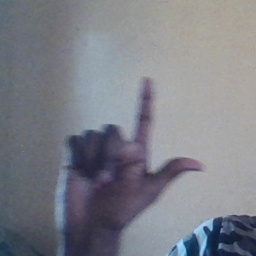L: (52, 76, 208, 228)
